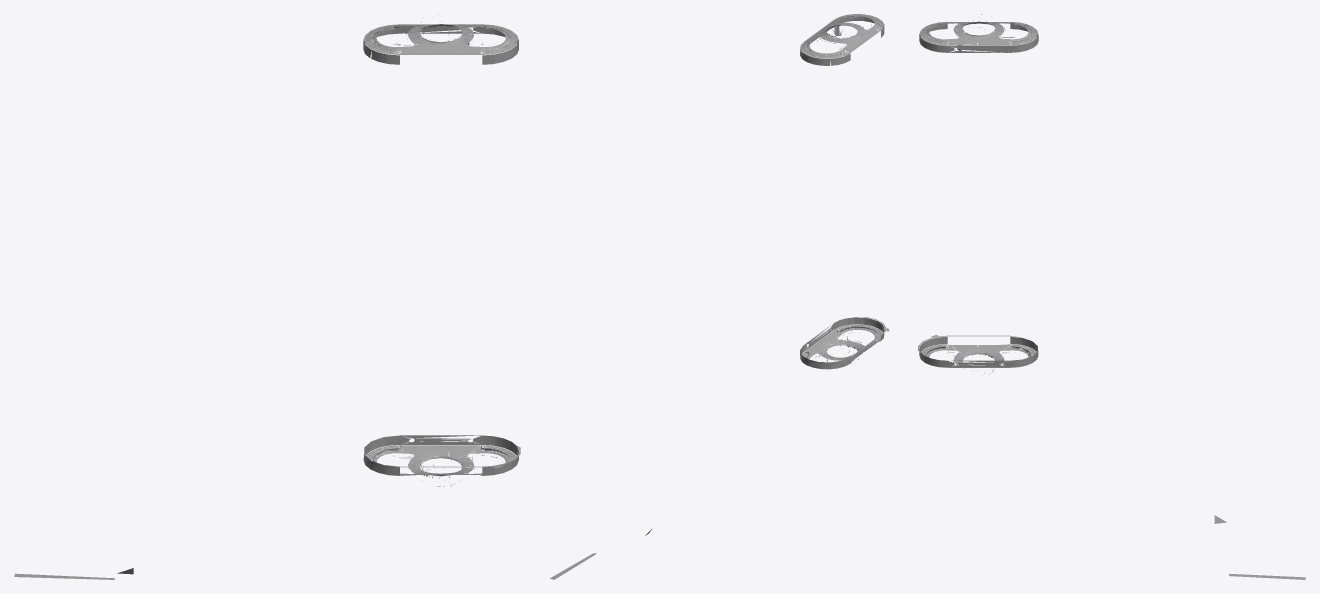
3 views of the same model, side by side, from view 1: azimuth 90°, elevation 25°; view 2: azimuth 150°, elevation 25°; view 3: azimuth 270°, elevation 25° (orthographic). The views are drawn at different scales.
Bounding box in the file's own units: 0.1856 × 0.5196 × 0.3704.
Materials: 1 (1 with a texture image).
